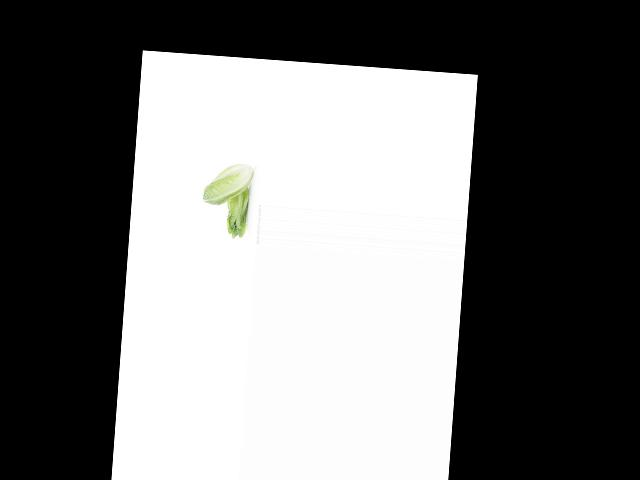lettuce: (220, 186, 256, 239)
